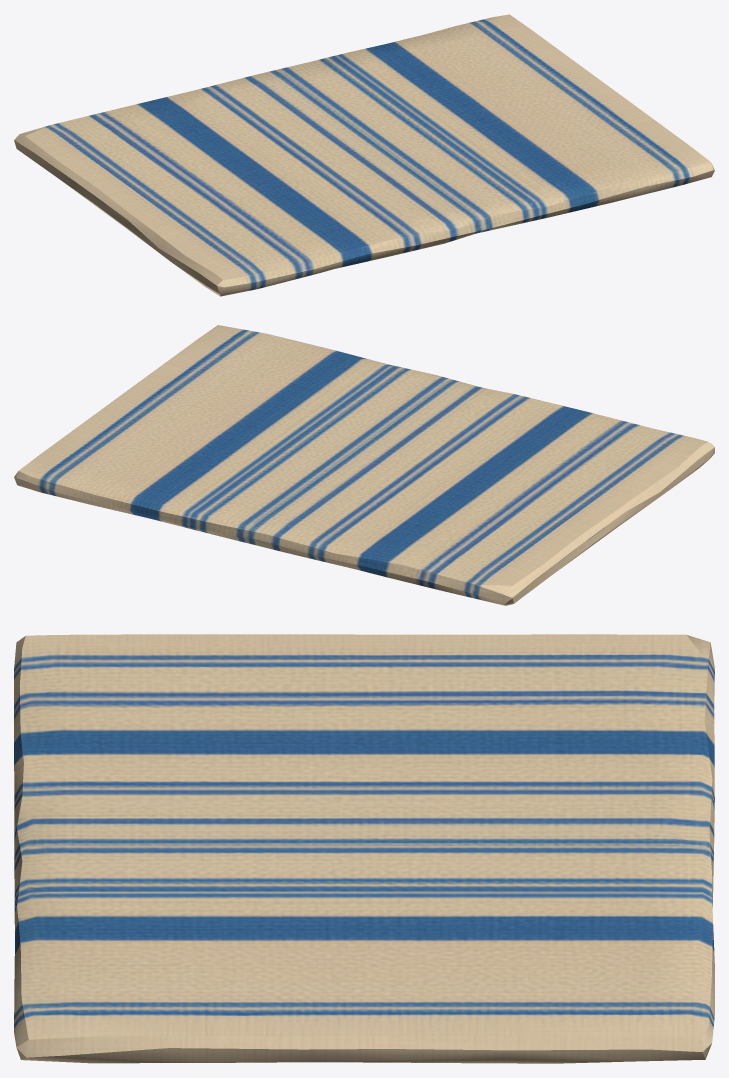
The model's file is satu-rug.glb.
The picture shows the model from 3 angles, top to bottom: view 1: azimuth 30°, elevation 25°; view 2: azimuth 150°, elevation 25°; view 3: azimuth 270°, elevation 25°; orthographic projection. The views are drawn at different scales.
Parts seen in each view (by area): view 1: geometry_0; view 2: geometry_0; view 3: geometry_0.
Boxes of the visible parts, x1,y1,x2,y2 form: geometry_0: [14, 14, 714, 296]; geometry_0: [14, 325, 714, 605]; geometry_0: [14, 634, 714, 1063].
Bounding box in the file's own units: 1 × 0.034 × 0.7227.
Materials: 1 (1 with a texture image).
